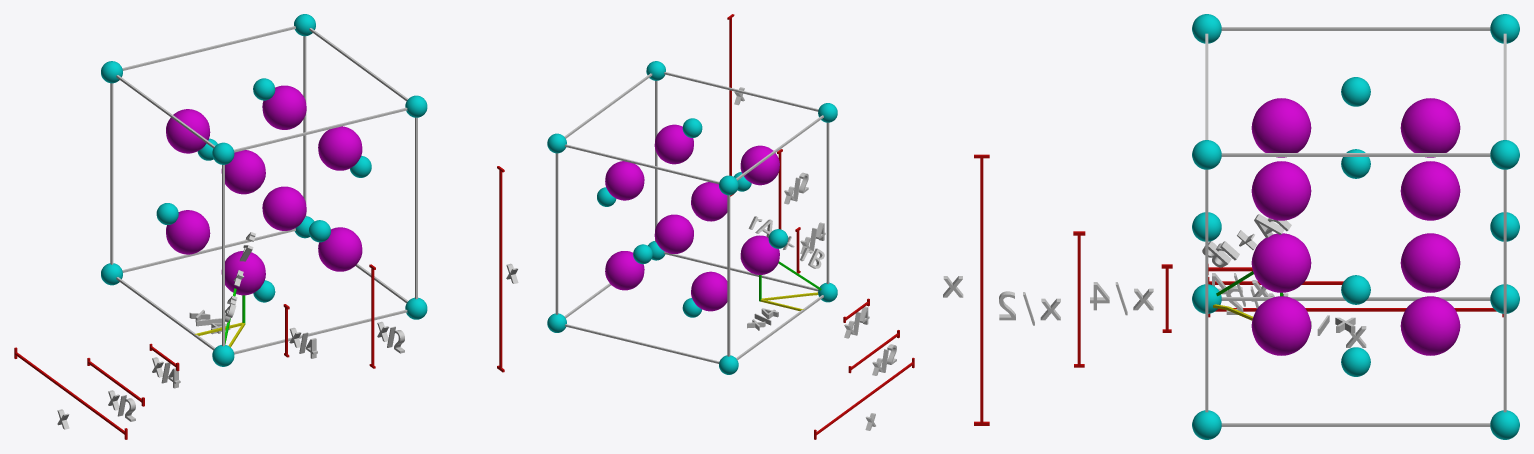
File: fluoritavolume_centrado_celda.glb
The picture shows the model from 3 angles, left to right: view 1: azimuth 30°, elevation 25°; view 2: azimuth 150°, elevation 25°; view 3: azimuth 270°, elevation 25°; orthographic projection. The views are drawn at different scales.
Visible parts, largest first — view 1: pasted__pCube3; view 2: pasted__pCube3; view 3: pasted__pCube3.
Boxes of the visible parts, x1,y1,x2,y2 form: pasted__pCube3: (14, 14, 518, 439); pasted__pCube3: (547, 14, 914, 439); pasted__pCube3: (943, 14, 1519, 439).
Bounding box in the file's own units: 1.6 × 1.48 × 1.94.
